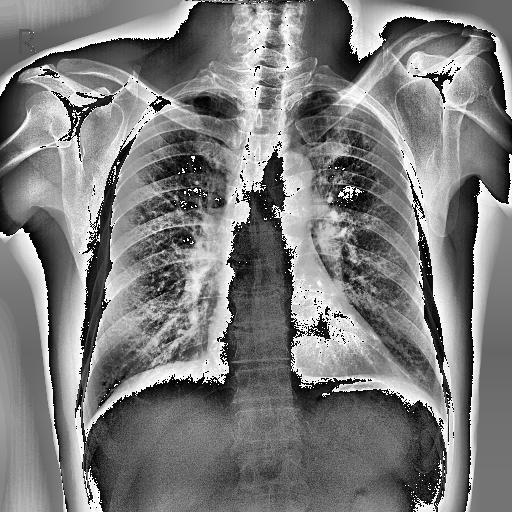0- Aortic enlargement: (264, 150, 312, 208), (260, 150, 312, 196)
11- Pleural thickening: (300, 86, 354, 100), (178, 87, 238, 97), (182, 88, 234, 98)
13- Pulmonary fibrosis: (370, 344, 412, 380), (361, 124, 367, 146)
3- Cardiomegaly: (208, 323, 396, 385)
